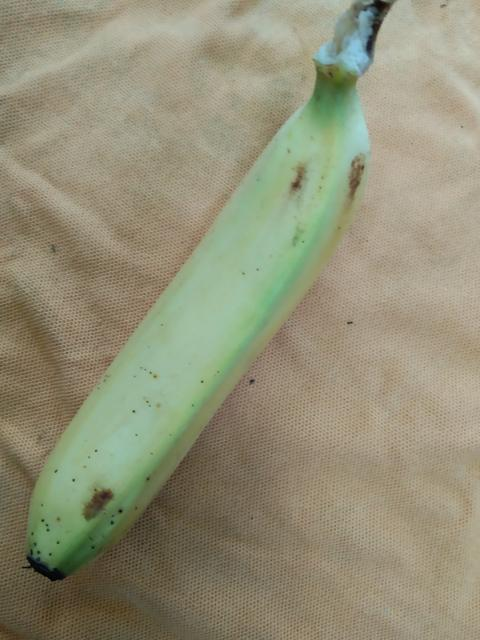freshripe: (6, 83, 368, 590)
